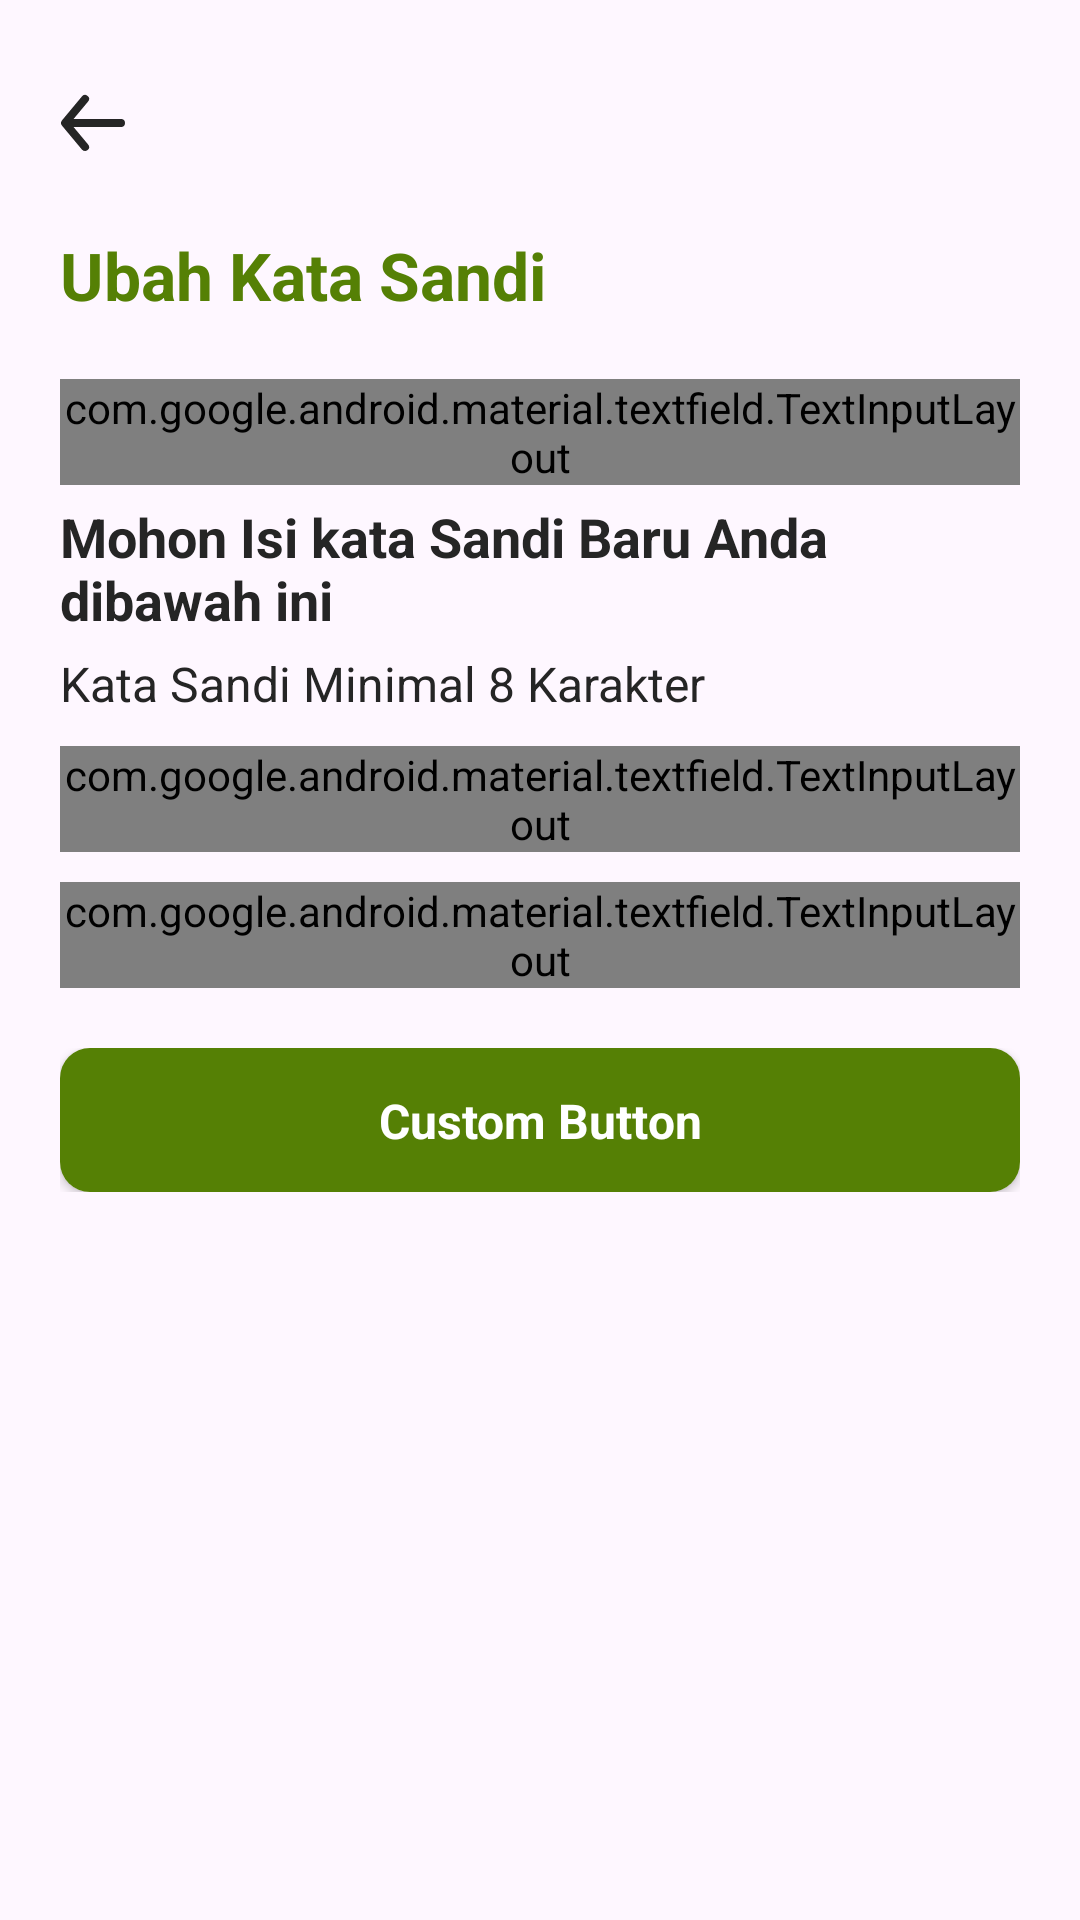

Point at icon controls on the screen. Image size 1080x1920, points as (x,y).
back: (93,122)
